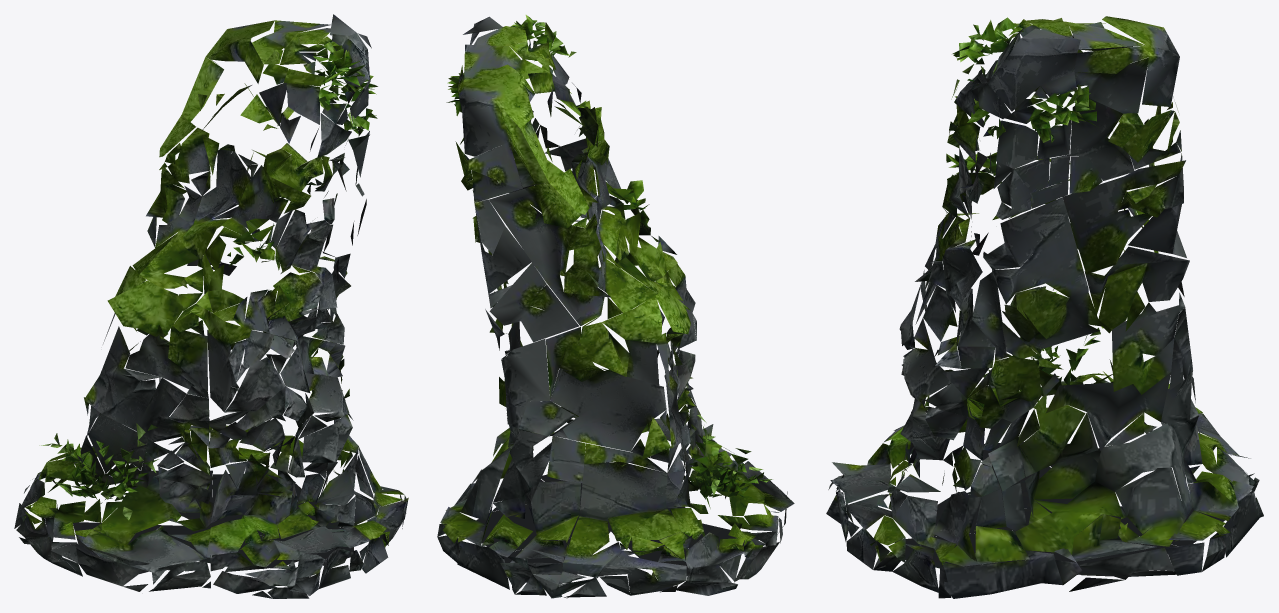
Rendered from tripo-rocha-musgo154-lod.glb.
3 views of the same model, side by side, from view 1: azimuth 30°, elevation 25°; view 2: azimuth 150°, elevation 25°; view 3: azimuth 270°, elevation 25° (orthographic). The views are drawn at different scales.
Parts seen in each view (by area): view 1: tripo_node_0baa212f-4e2b-424e-90dc-d1899b0a7e39; view 2: tripo_node_0baa212f-4e2b-424e-90dc-d1899b0a7e39; view 3: tripo_node_0baa212f-4e2b-424e-90dc-d1899b0a7e39.
Part boxes in pixels (<box>): tripo_node_0baa212f-4e2b-424e-90dc-d1899b0a7e39: <box>14,14,408,598</box>; tripo_node_0baa212f-4e2b-424e-90dc-d1899b0a7e39: <box>437,15,794,598</box>; tripo_node_0baa212f-4e2b-424e-90dc-d1899b0a7e39: <box>826,16,1263,598</box>.
Size of the model in its own units: 0.7218 by 0.993 by 0.7098.
Materials: 1 (1 with a texture image).
